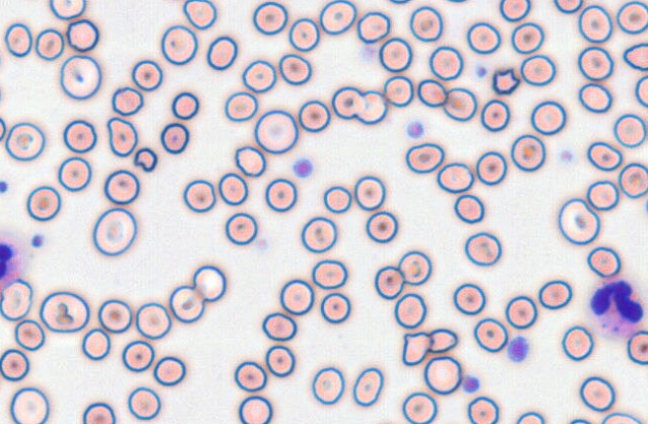GRAN: (588, 277, 648, 341), (0, 228, 24, 294)
PLT: (506, 335, 531, 363), (462, 373, 482, 394), (293, 157, 313, 177), (404, 120, 423, 139), (30, 233, 45, 249), (475, 64, 488, 79), (0, 178, 10, 196), (560, 149, 573, 162)
RBC: (92, 207, 137, 256), (39, 290, 90, 332), (557, 197, 600, 245), (254, 109, 298, 154), (59, 54, 101, 100), (4, 121, 45, 161), (423, 355, 461, 395), (160, 24, 197, 65), (9, 386, 49, 423), (0, 278, 33, 321), (300, 216, 337, 253), (510, 133, 545, 172), (135, 302, 171, 339), (169, 285, 204, 323), (311, 366, 345, 405), (578, 4, 612, 43), (579, 376, 615, 412), (279, 278, 314, 315), (464, 231, 501, 266), (192, 264, 226, 302), (26, 185, 61, 221), (103, 169, 139, 204), (530, 100, 566, 135), (577, 46, 613, 81), (319, 0, 356, 34), (473, 317, 508, 352), (97, 298, 132, 333), (397, 250, 432, 285), (428, 45, 463, 80), (252, 1, 288, 35), (393, 292, 426, 329), (436, 161, 474, 193), (352, 367, 383, 406), (405, 142, 444, 173), (57, 156, 91, 191), (62, 119, 97, 153), (378, 37, 412, 72), (241, 59, 276, 93), (561, 325, 594, 361), (409, 5, 442, 41), (519, 54, 556, 86), (443, 87, 477, 121), (127, 386, 161, 420), (466, 21, 501, 54), (401, 391, 437, 423), (504, 295, 537, 329), (355, 90, 388, 124), (65, 18, 99, 51), (264, 178, 297, 212), (613, 113, 646, 147), (475, 150, 507, 185), (353, 175, 385, 210), (331, 86, 364, 119), (121, 339, 154, 372), (224, 212, 257, 245), (365, 210, 398, 243), (183, 179, 216, 212), (452, 282, 485, 315), (356, 11, 390, 43), (510, 22, 544, 54), (288, 17, 320, 51), (586, 246, 621, 277), (206, 35, 237, 70), (311, 259, 347, 289), (586, 141, 622, 171), (298, 99, 330, 132), (234, 360, 267, 392), (278, 53, 311, 85), (578, 82, 612, 113), (616, 0, 647, 34), (618, 162, 647, 198), (261, 312, 297, 341), (234, 145, 266, 177), (586, 179, 619, 210), (224, 91, 258, 121), (374, 265, 404, 299), (538, 279, 572, 309), (182, 0, 217, 29), (14, 319, 45, 351), (153, 355, 185, 386), (131, 59, 162, 91), (218, 172, 248, 205), (265, 344, 295, 377), (4, 22, 32, 57), (383, 75, 413, 107), (111, 86, 143, 116), (480, 99, 510, 131), (34, 28, 64, 60), (81, 327, 110, 360), (0, 348, 29, 381), (238, 395, 272, 423), (320, 292, 350, 323), (453, 193, 484, 223), (160, 122, 189, 154), (466, 396, 499, 423), (417, 78, 447, 107), (322, 185, 351, 213), (171, 91, 199, 120), (49, 0, 86, 20), (626, 330, 647, 365), (622, 42, 647, 71), (82, 402, 115, 423), (499, 0, 530, 22), (600, 412, 642, 423), (634, 75, 647, 107), (553, 0, 583, 13), (515, 411, 545, 423), (371, 418, 402, 424), (567, 417, 592, 423), (0, 117, 6, 141), (387, 0, 411, 4), (443, 0, 469, 3)
Schistocyte: (106, 117, 139, 157), (403, 332, 431, 365), (427, 328, 459, 353), (494, 67, 521, 94), (135, 147, 158, 172)
